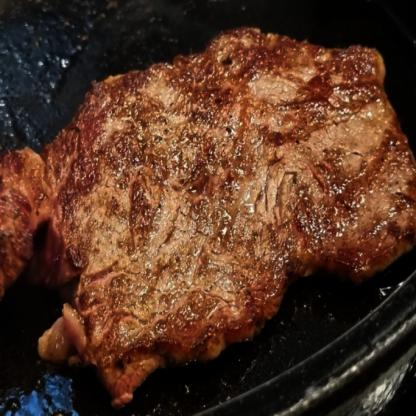Carne: (1, 19, 415, 395)
